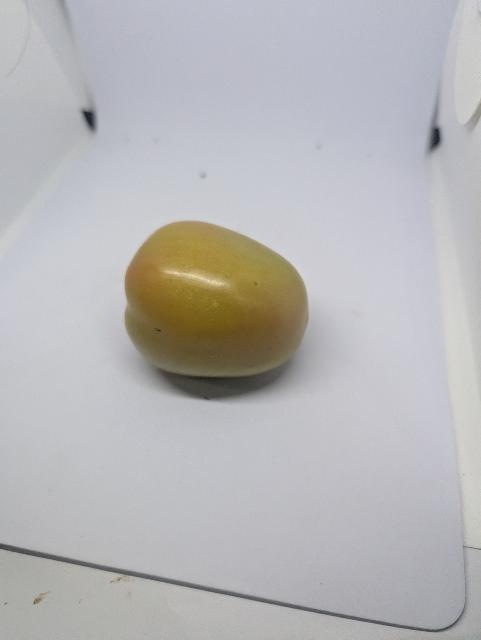breaker: (125, 221, 309, 377)
